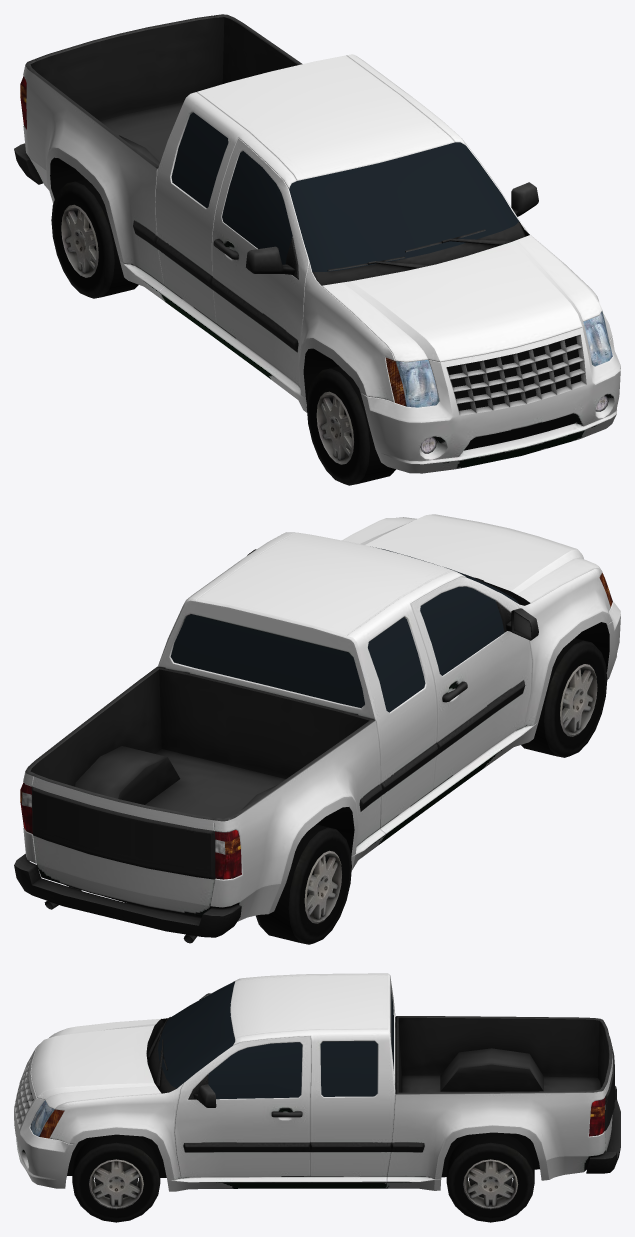
The model's file is pickup.glb.
The picture shows the model from 3 angles, top to bottom: view 1: azimuth 30°, elevation 25°; view 2: azimuth 150°, elevation 25°; view 3: azimuth 270°, elevation 25°; orthographic projection. The views are drawn at different scales.
Parts seen in each view (by area): view 1: carrosserie, wheel_2, wheel_0; view 2: carrosserie, wheel_0, wheel_2; view 3: carrosserie, wheel_1, wheel_3.
Part boxes in pixels (<box>): carrosserie: <box>14,14,620,473</box>; wheel_2: <box>306,366,395,485</box>; wheel_0: <box>51,178,138,298</box>; carrosserie: <box>14,514,620,943</box>; wheel_0: <box>256,824,351,944</box>; wheel_2: <box>521,638,607,757</box>; carrosserie: <box>14,973,620,1191</box>; wheel_1: <box>446,1132,534,1222</box>; wheel_3: <box>72,1134,160,1222</box>.
Size of the model in its own units: 2.33 by 1.91 by 5.83.
Materials: 7 (6 with a texture image).
